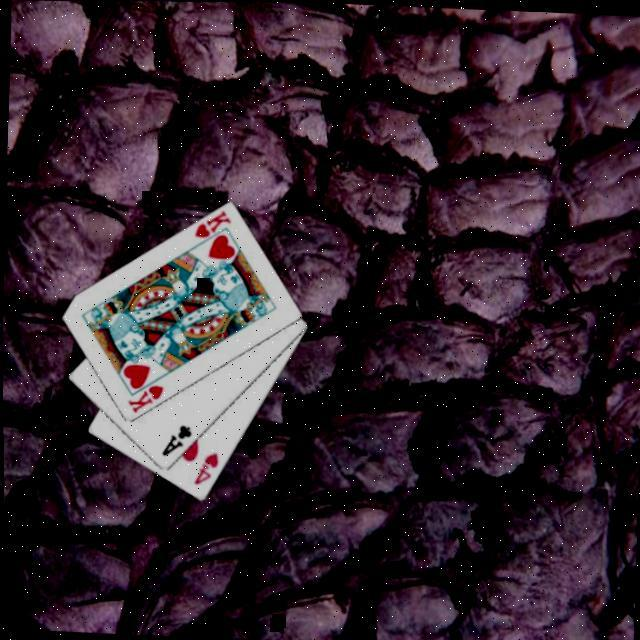4H: (188, 447, 220, 488)
AC: (156, 420, 192, 459)
KH: (122, 380, 164, 416), (190, 206, 233, 240)
